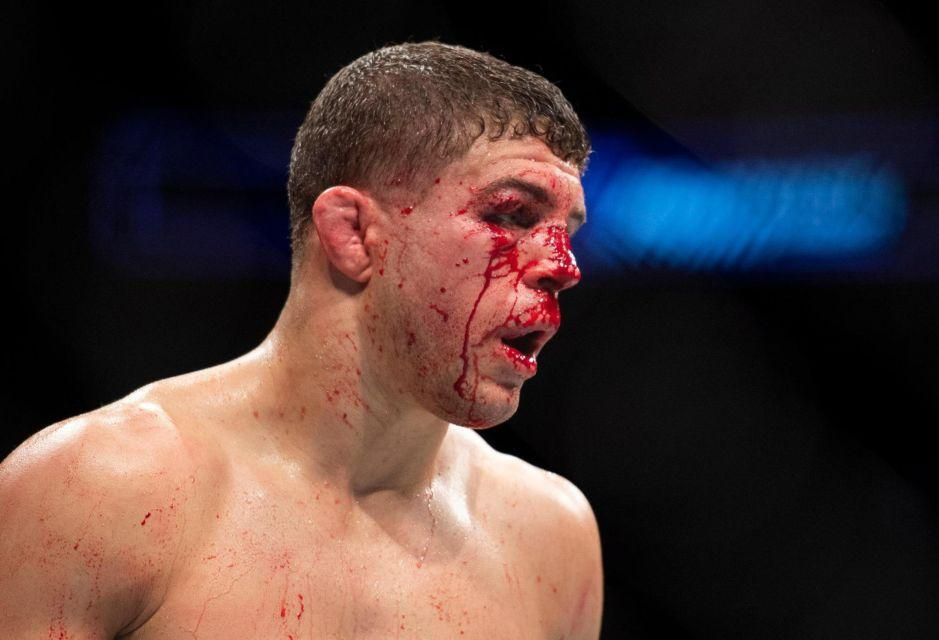Fire: (0, 161, 587, 638)
